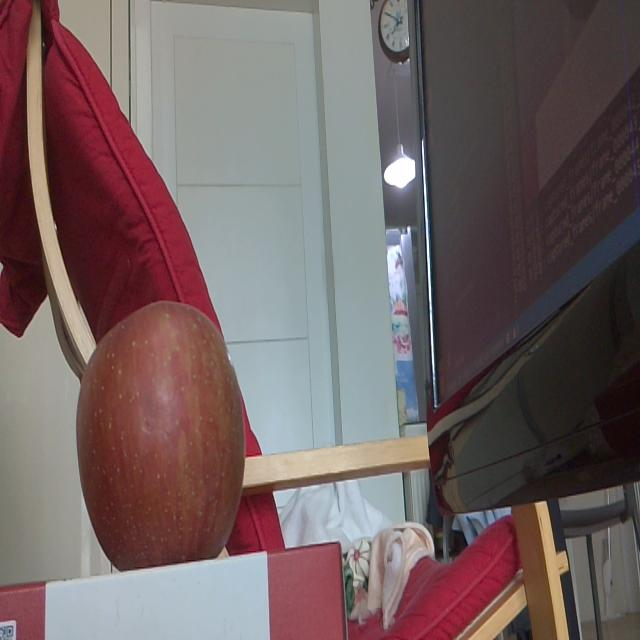apple: (74, 301, 248, 564)
